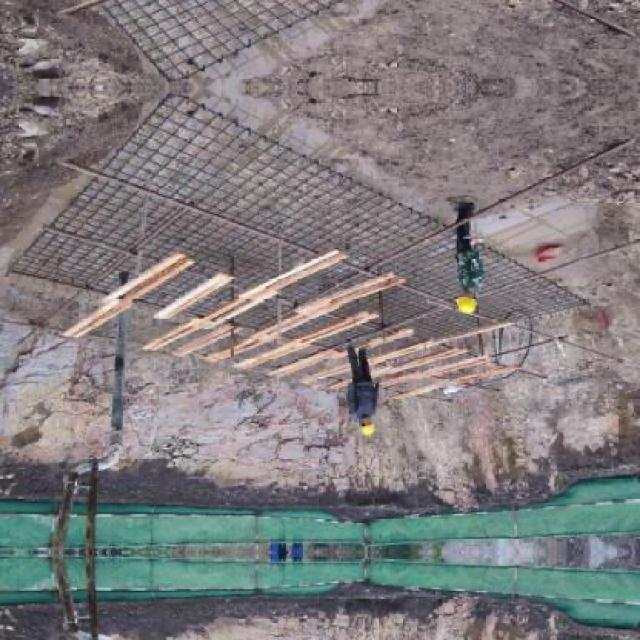con casco: (322, 408, 390, 449), (446, 289, 492, 322)
